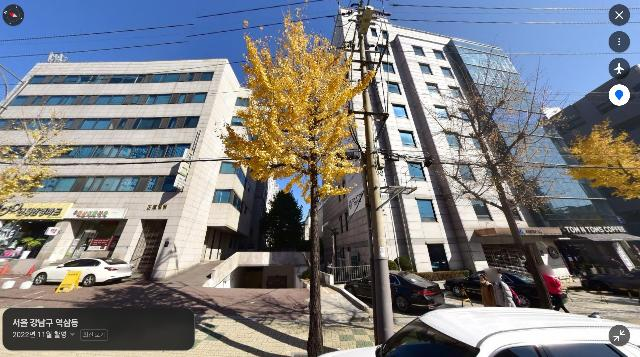ginkgo: (214, 0, 378, 357), (0, 103, 75, 214), (556, 117, 640, 203)
